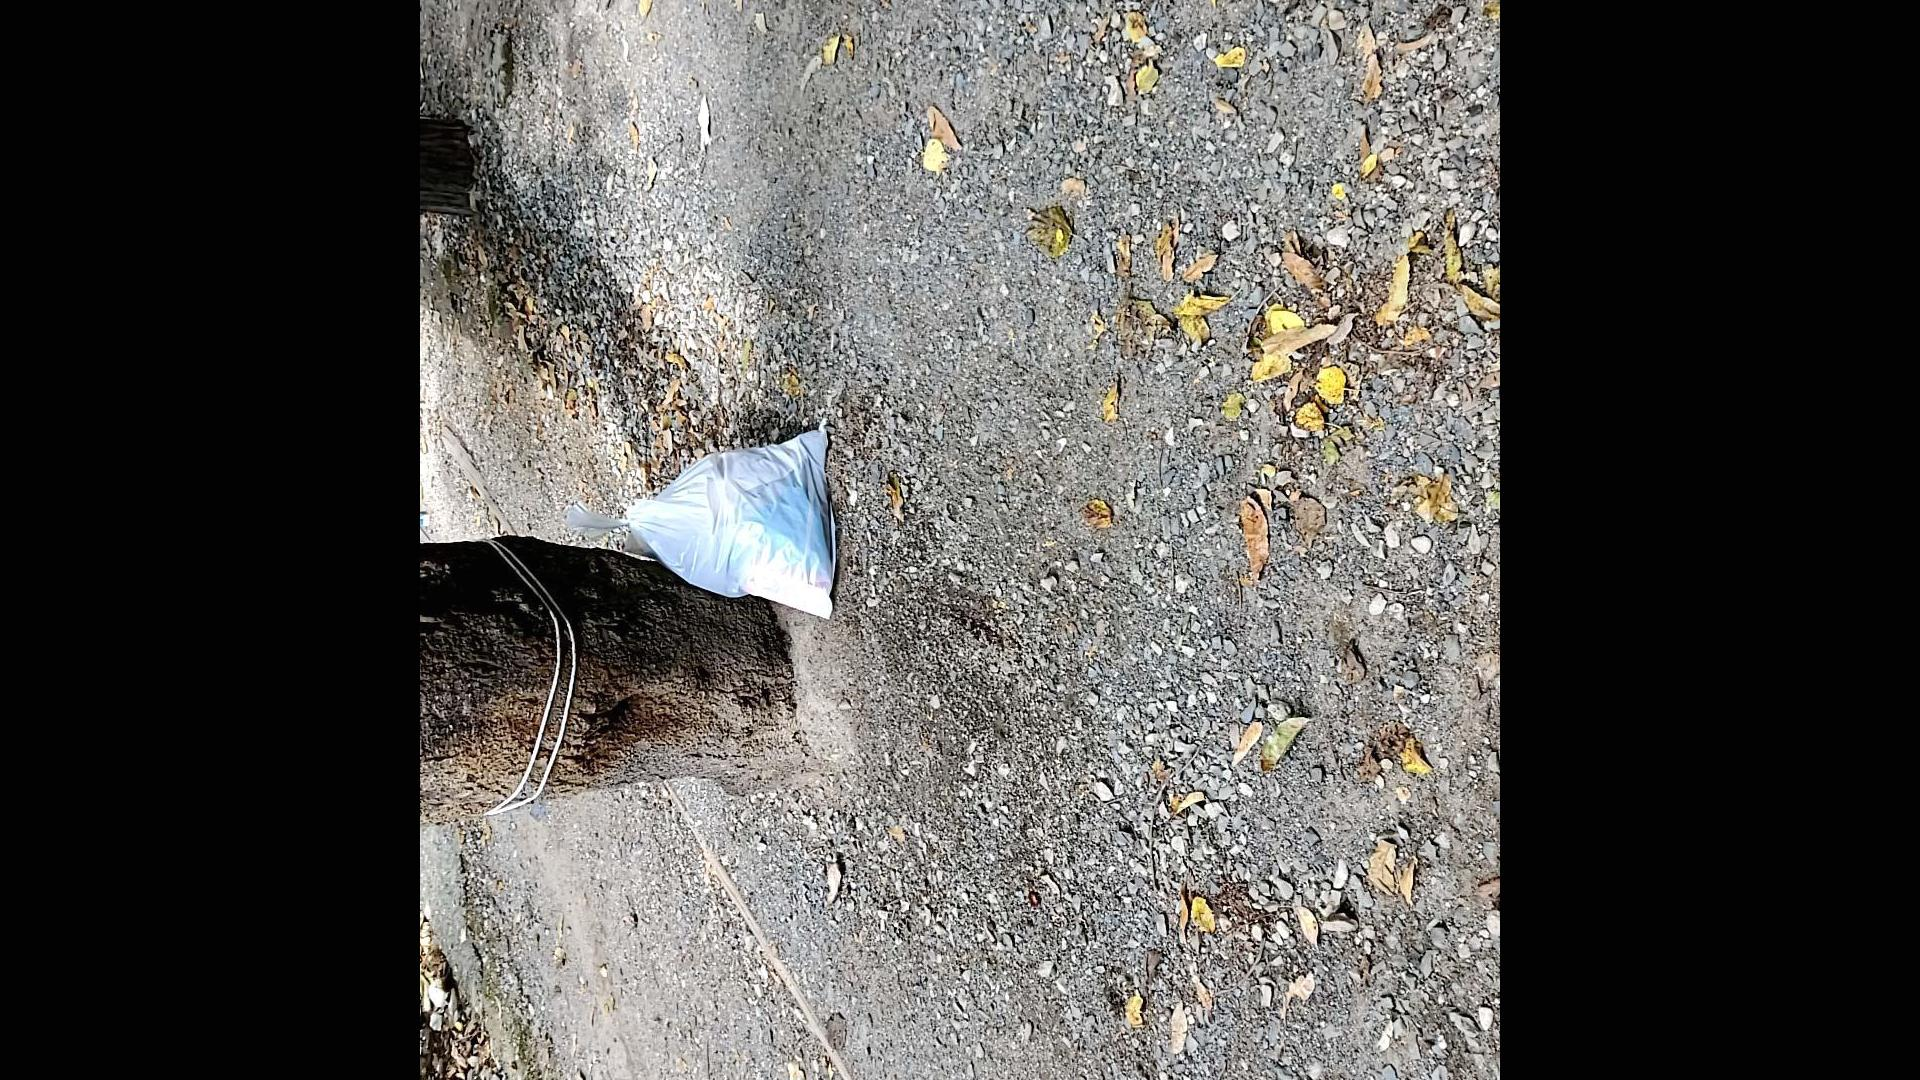white_bag: (572, 396, 847, 637)
